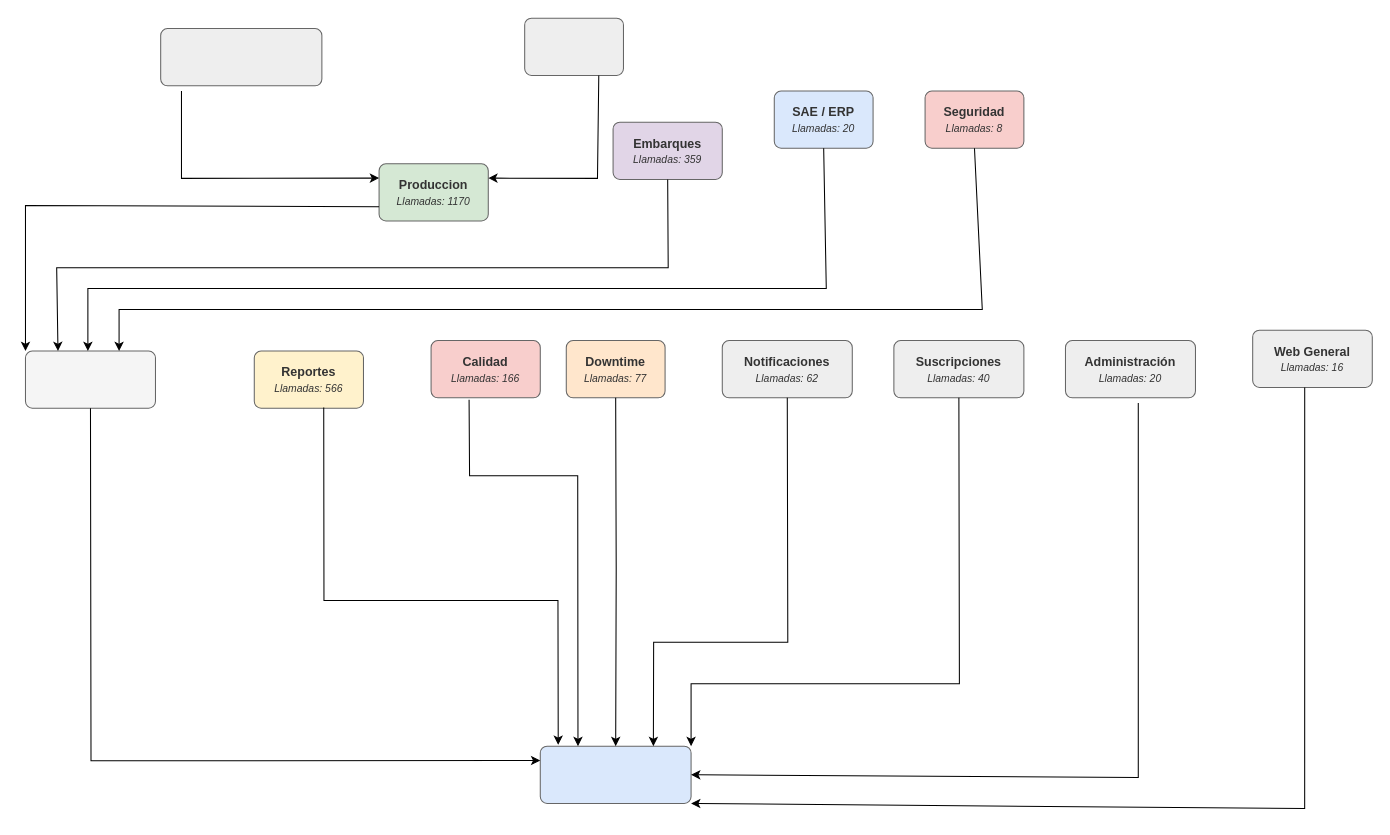
Image size: 1390x835. Some labels were removed from this diagram. Each missing label, with the centre of its shape:
"Base de Datos Llamadas: 1887" goes at (x=89, y=379).
"GeneXus Reporting Llamadas: 64" goes at (x=241, y=57).
"Printer SD Llamadas: 18" goes at (x=573, y=46).
"WWPBaseObjects Llamadas: 3147" goes at (x=615, y=774).
